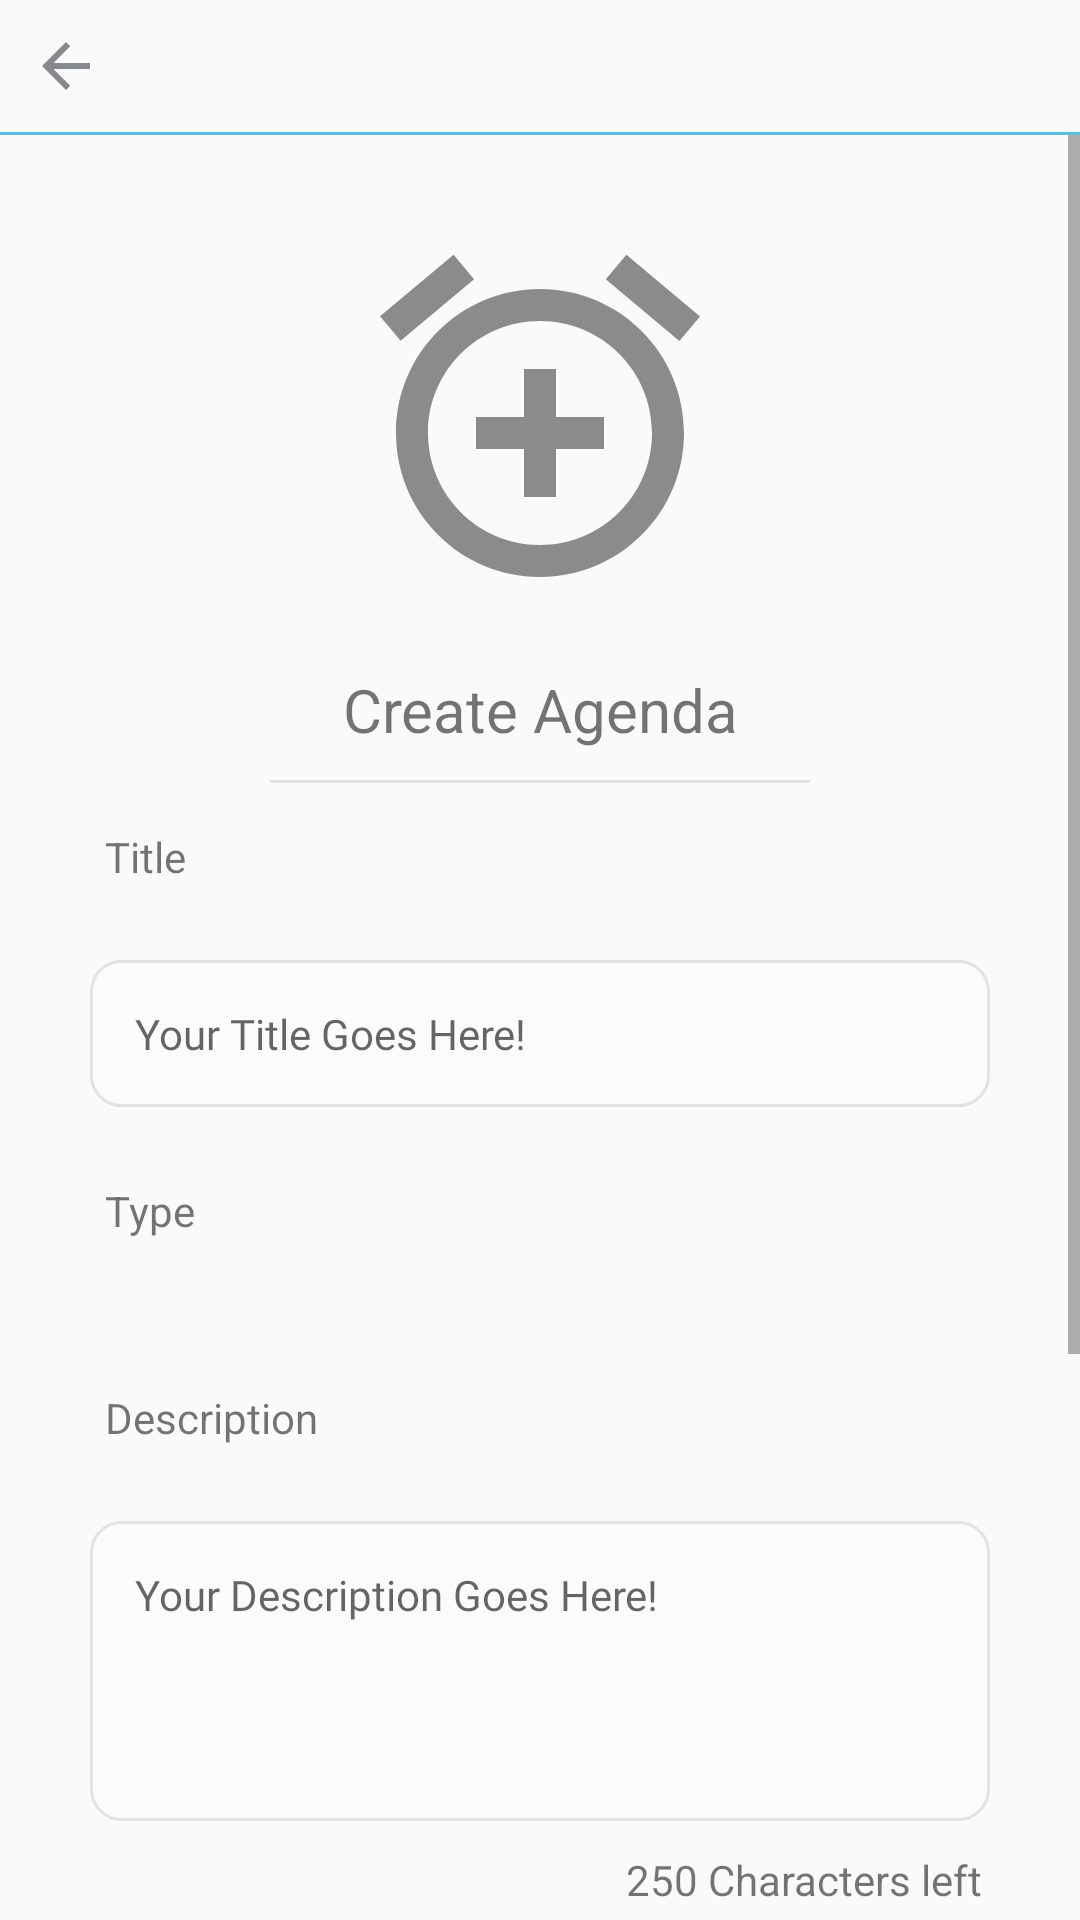

Icon click points for this 1080 x 1920 phone screenshot, format [x,y]:
alarm add: [540,416]
arrow back: [66,66]
